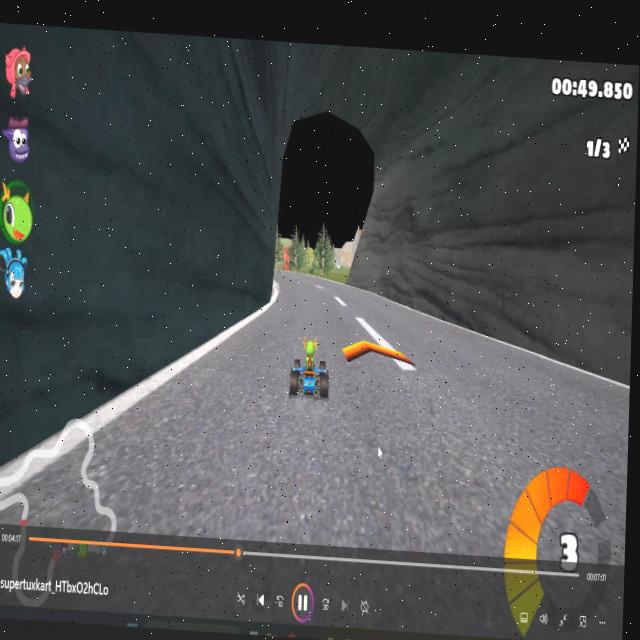player_kart: (286, 323, 331, 417)
power_up: (337, 330, 413, 383)
